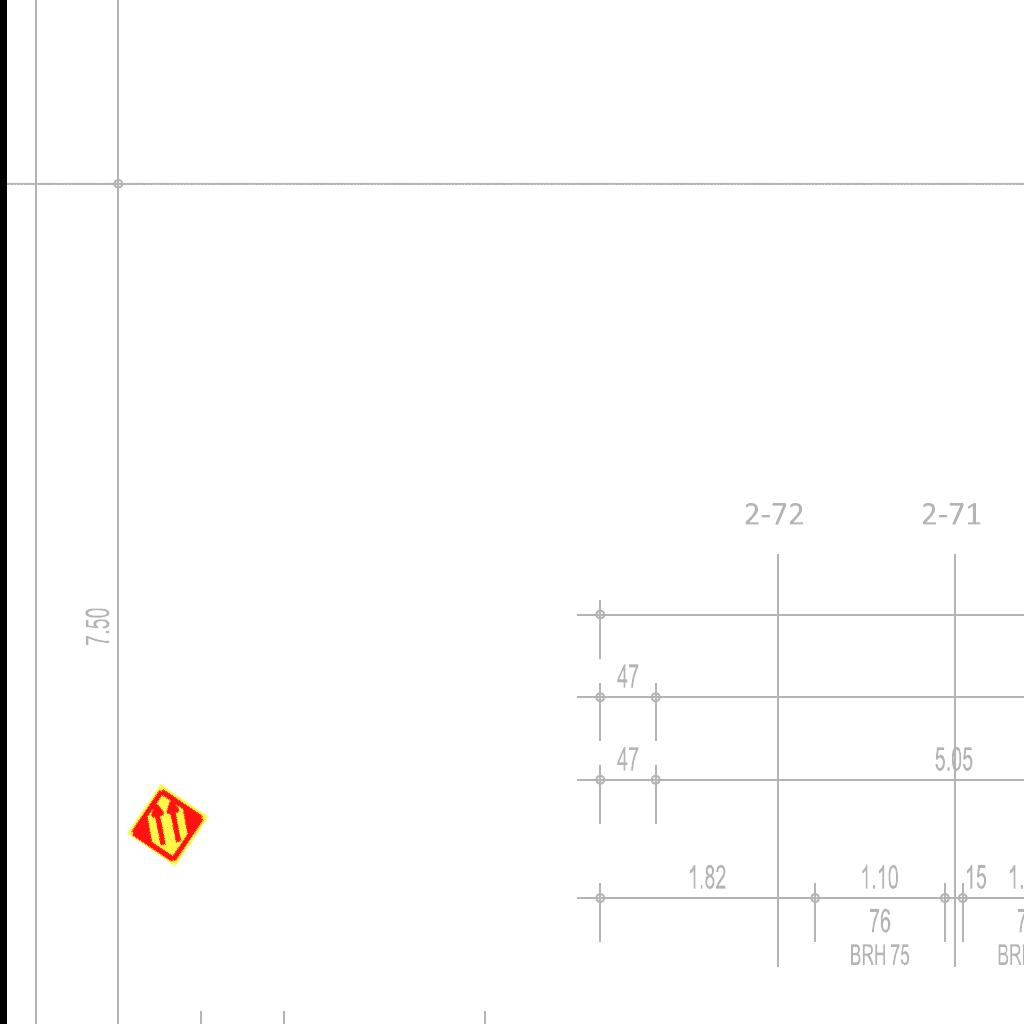ASR_Ansaugrauchmelder: (124, 781, 212, 869)
